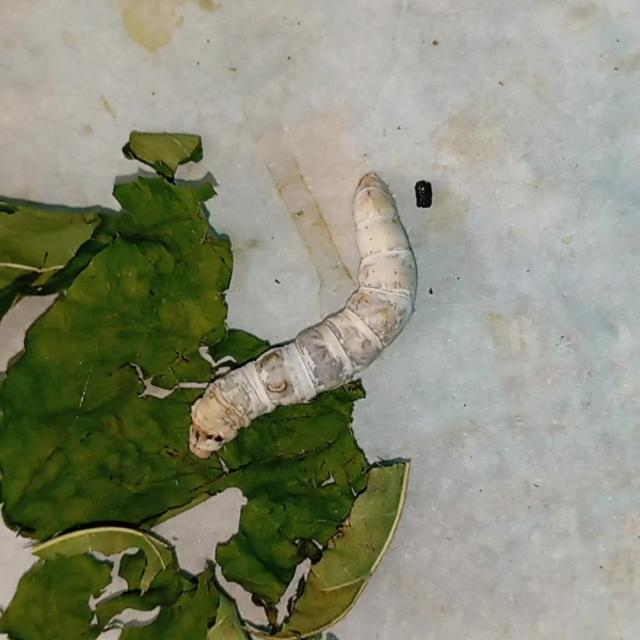Grasserie: (162, 159, 459, 491)
